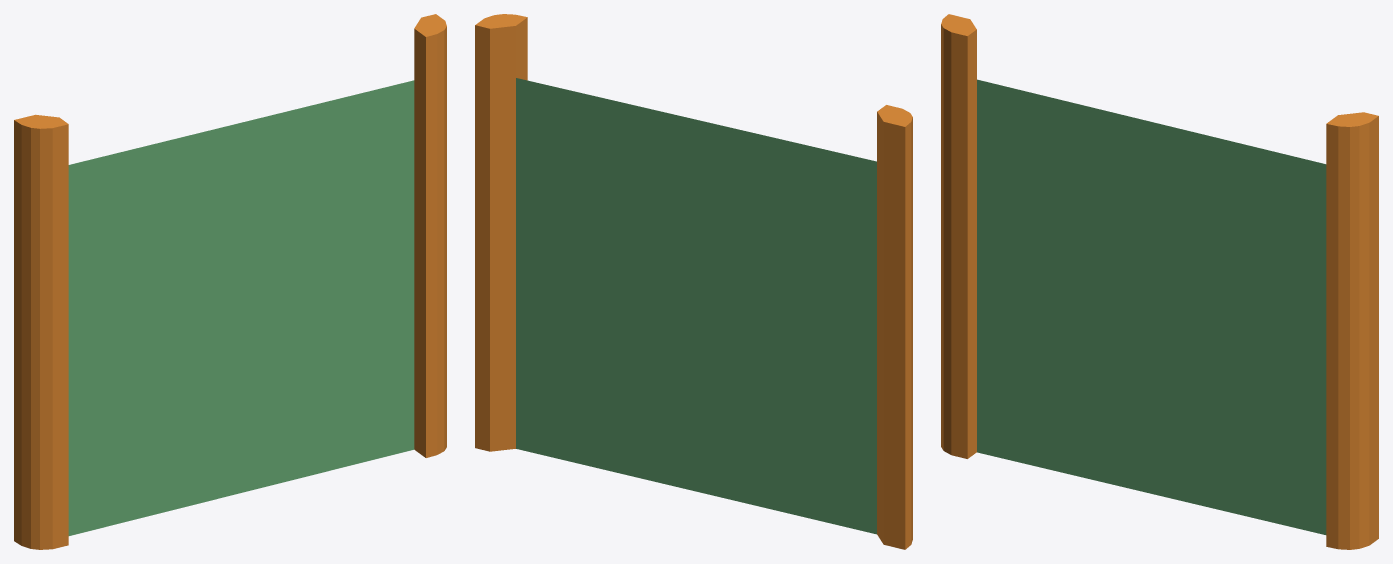
The model's file is Sluishek.fbx.
The picture shows the model from 3 angles, left to right: view 1: azimuth 30°, elevation 25°; view 2: azimuth 150°, elevation 25°; view 3: azimuth 330°, elevation 25°; orthographic projection.
Parts seen in each view (by area): view 1: Sluishek; view 2: Sluishek; view 3: Sluishek.
Boxes of the visible parts, x1,y1,x2,y2 form: Sluishek: (14, 14, 446, 549); Sluishek: (475, 14, 912, 549); Sluishek: (941, 14, 1378, 549).
Bounding box in the file's own units: 237 × 224 × 20.48.
